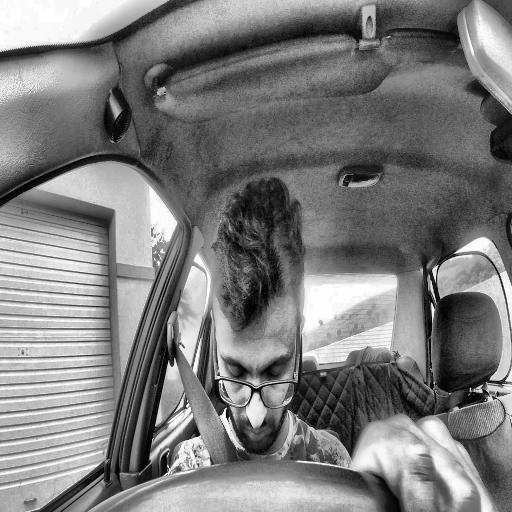drowsy: (209, 176, 308, 458)
